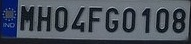character: (70, 5, 85, 33), (18, 5, 34, 31), (36, 5, 51, 32), (53, 6, 68, 32), (104, 6, 119, 32), (171, 7, 186, 33), (88, 6, 102, 33), (121, 6, 135, 33), (154, 7, 168, 33), (139, 6, 150, 33)
